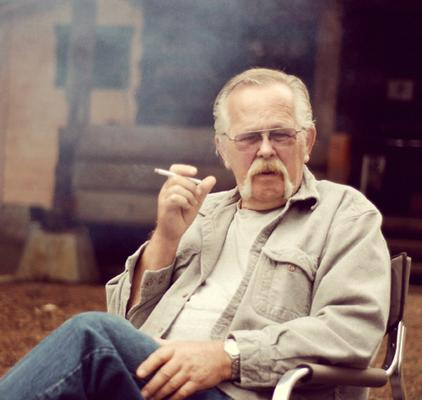person: (2, 64, 391, 400)
